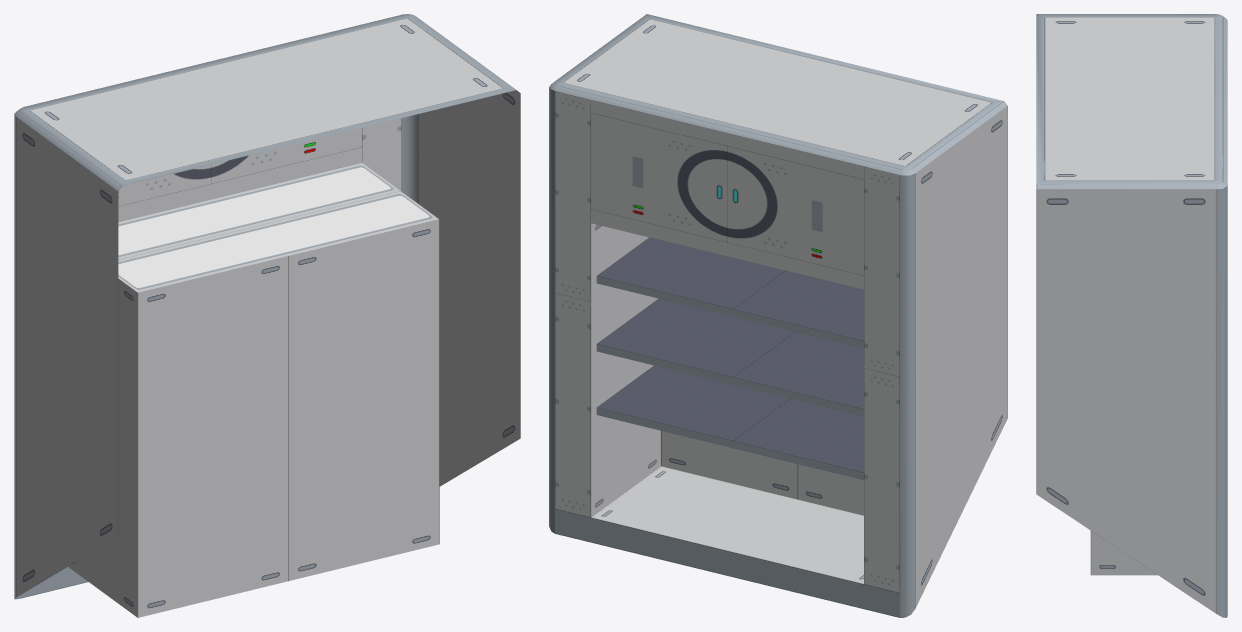
Rendered from Interior_Wardrobe_01.FBX.
3 renders of one model, left to right at view 1: azimuth 30°, elevation 25°; view 2: azimuth 150°, elevation 25°; view 3: azimuth 270°, elevation 25°, orthographic. The views are drawn at different scales.
Visible parts, largest first — view 1: Interior_Wardrobe_01; view 2: Interior_Wardrobe_01; view 3: Interior_Wardrobe_01.
Part boxes in pixels (x1,y1,x2,y2): Interior_Wardrobe_01: (14,14,520,617); Interior_Wardrobe_01: (549,14,1007,617); Interior_Wardrobe_01: (1036,14,1227,617).
Size of the model in its own units: 3 by 3.51 by 1.4.
